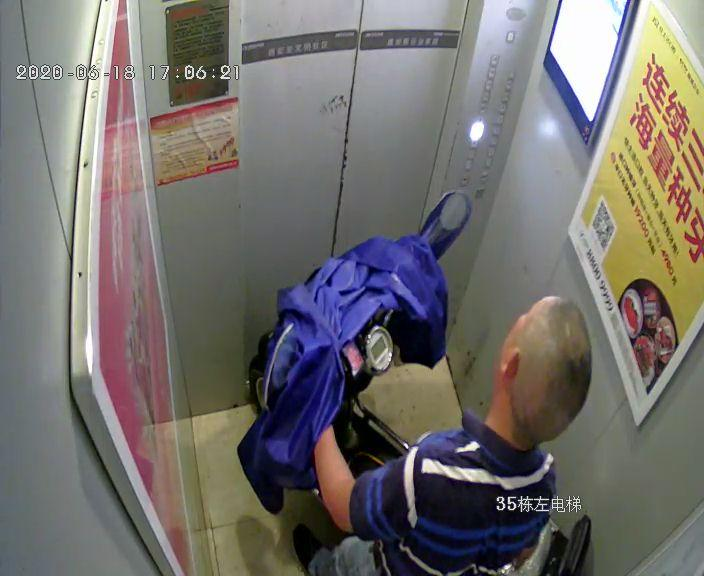Electric-bicycle: (256, 193, 587, 575)
